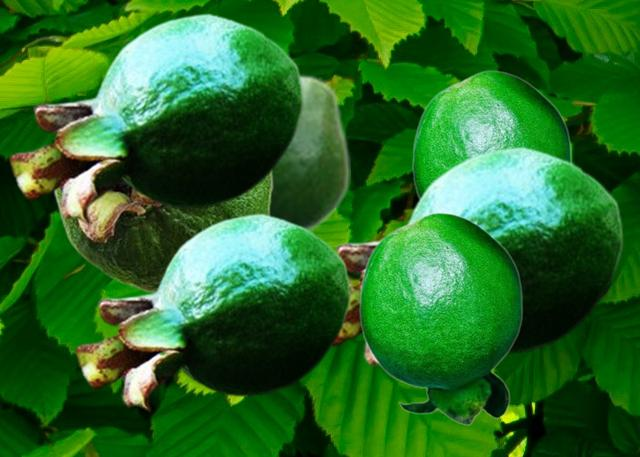guava: (332, 145, 623, 370), (8, 12, 303, 224), (74, 212, 350, 411), (358, 212, 522, 424), (52, 173, 273, 293), (411, 70, 571, 198), (272, 73, 349, 232)
